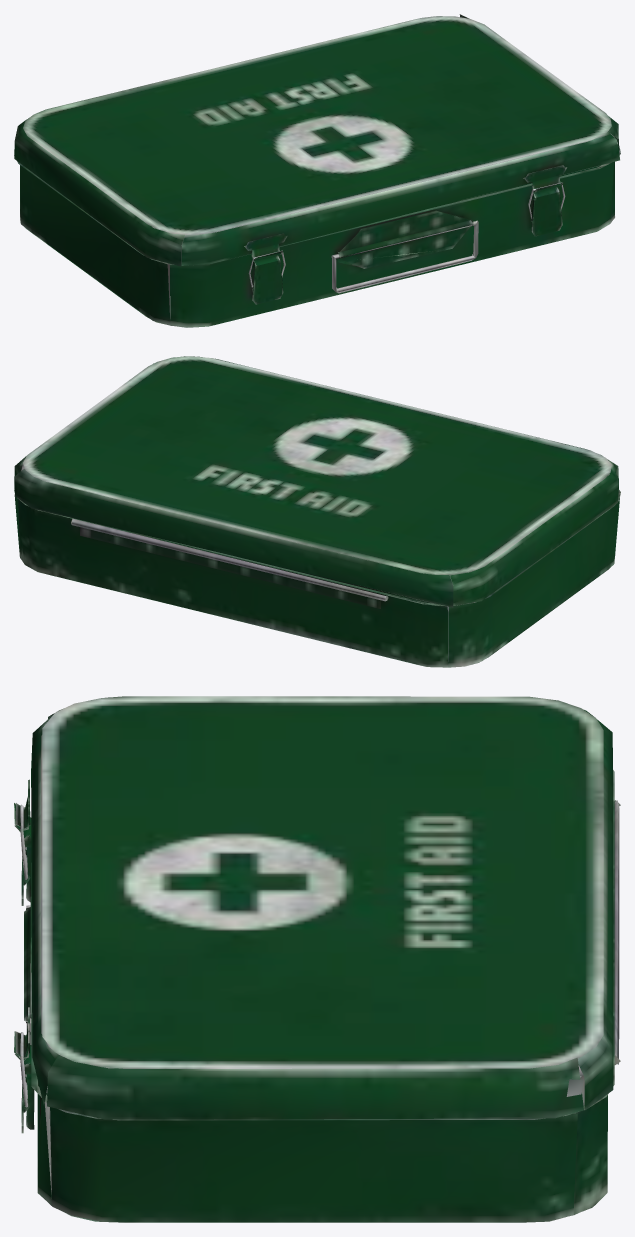
The model's file is medical_box.glb.
The picture shows the model from 3 angles, top to bottom: view 1: azimuth 30°, elevation 25°; view 2: azimuth 150°, elevation 25°; view 3: azimuth 270°, elevation 25°; orthographic projection. The views are drawn at different scales.
Parts seen in each view (by area): view 1: medical_box_lid, medical_box, medical_box_latch, medical_box_handle; view 2: medical_box_lid, medical_box; view 3: medical_box_lid, medical_box.
Boxes of the visible parts, box(x1,y1,x2,y2) form: medical_box_lid: box(14, 14, 620, 266); medical_box: box(20, 161, 614, 327); medical_box_latch: box(251, 187, 562, 304); medical_box_handle: box(331, 220, 478, 293); medical_box_lid: box(14, 356, 620, 607); medical_box: box(14, 494, 619, 667); medical_box_lid: box(14, 696, 614, 1120); medical_box: box(24, 800, 620, 1222).
Bounding box in the file's own units: 0.5255 × 0.0994 × 0.3509.
Materials: 1 (1 with a texture image).
